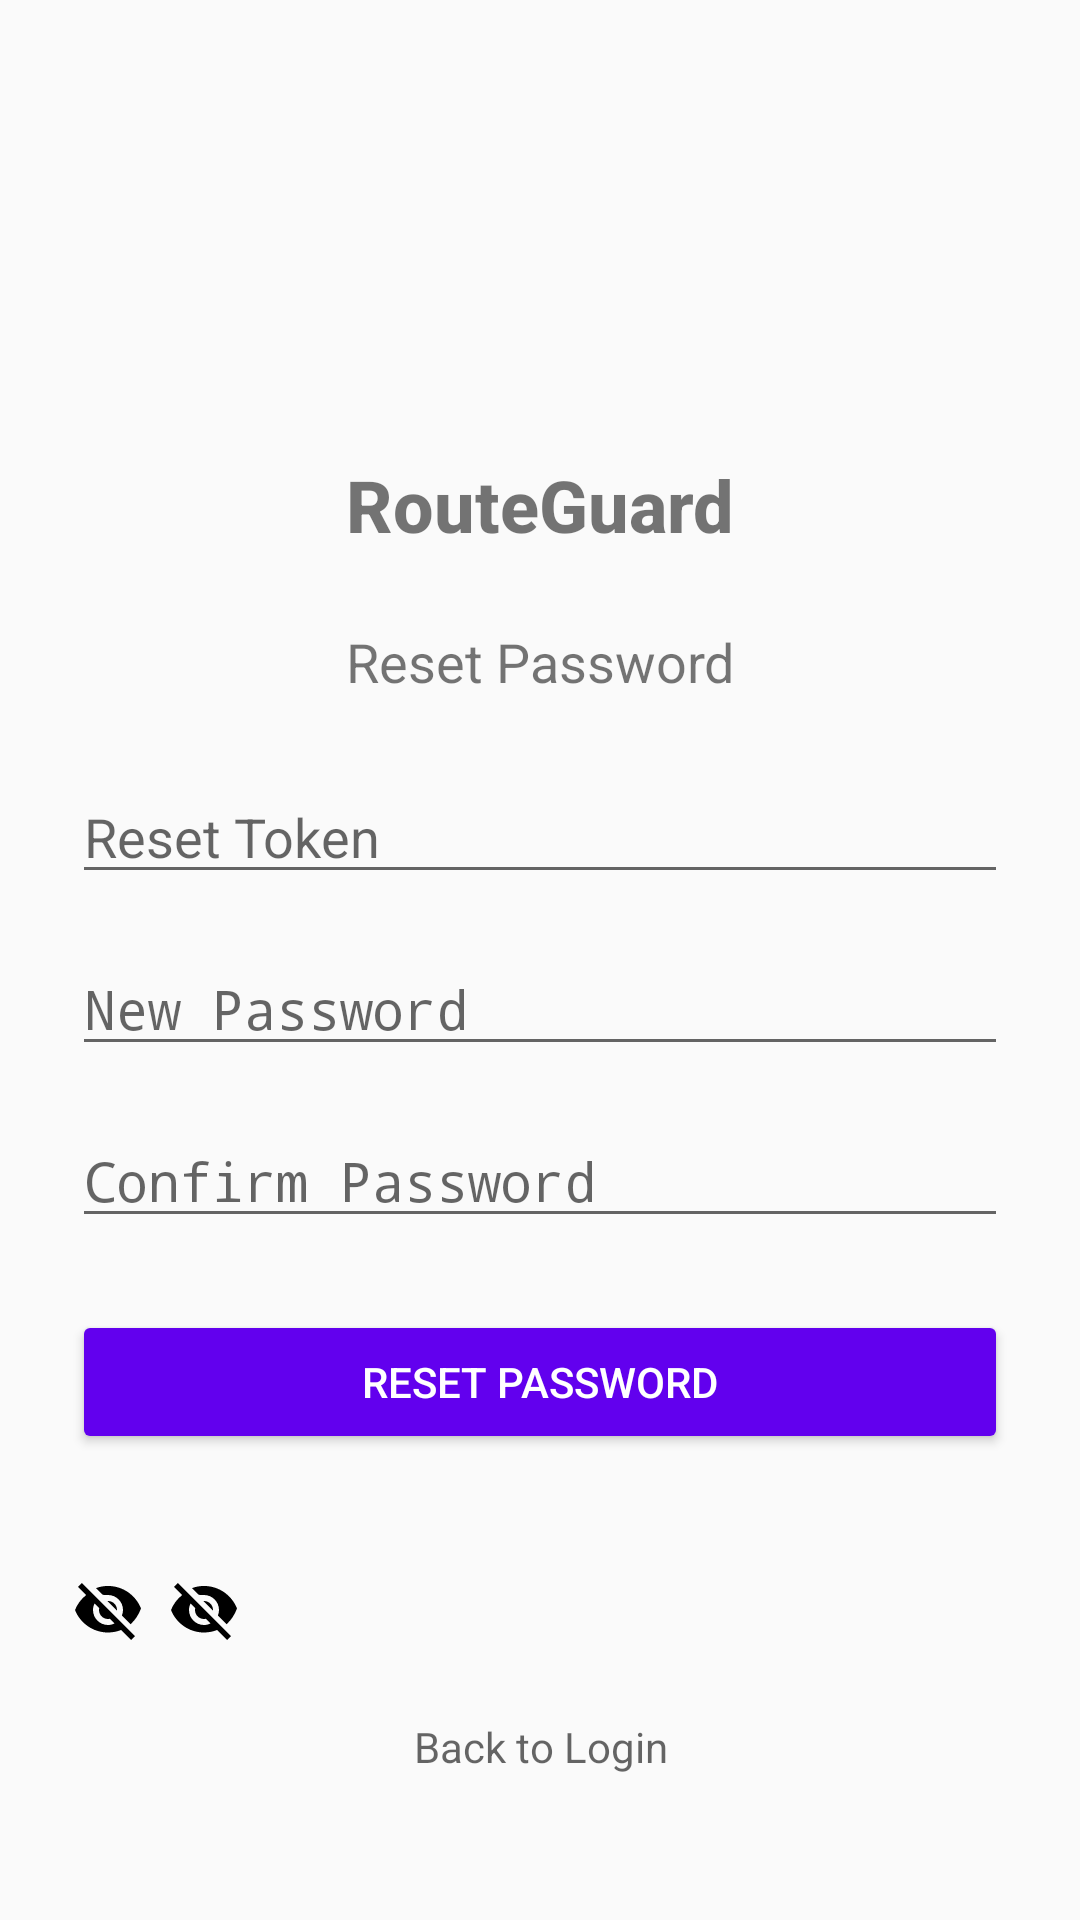

Named icons in this screenshot (1080×1920) and their bounding boxes, box=[x1, y1, x2, y2]:
Toggle password visibility: box=[75, 1583, 141, 1640], box=[171, 1583, 237, 1640]
